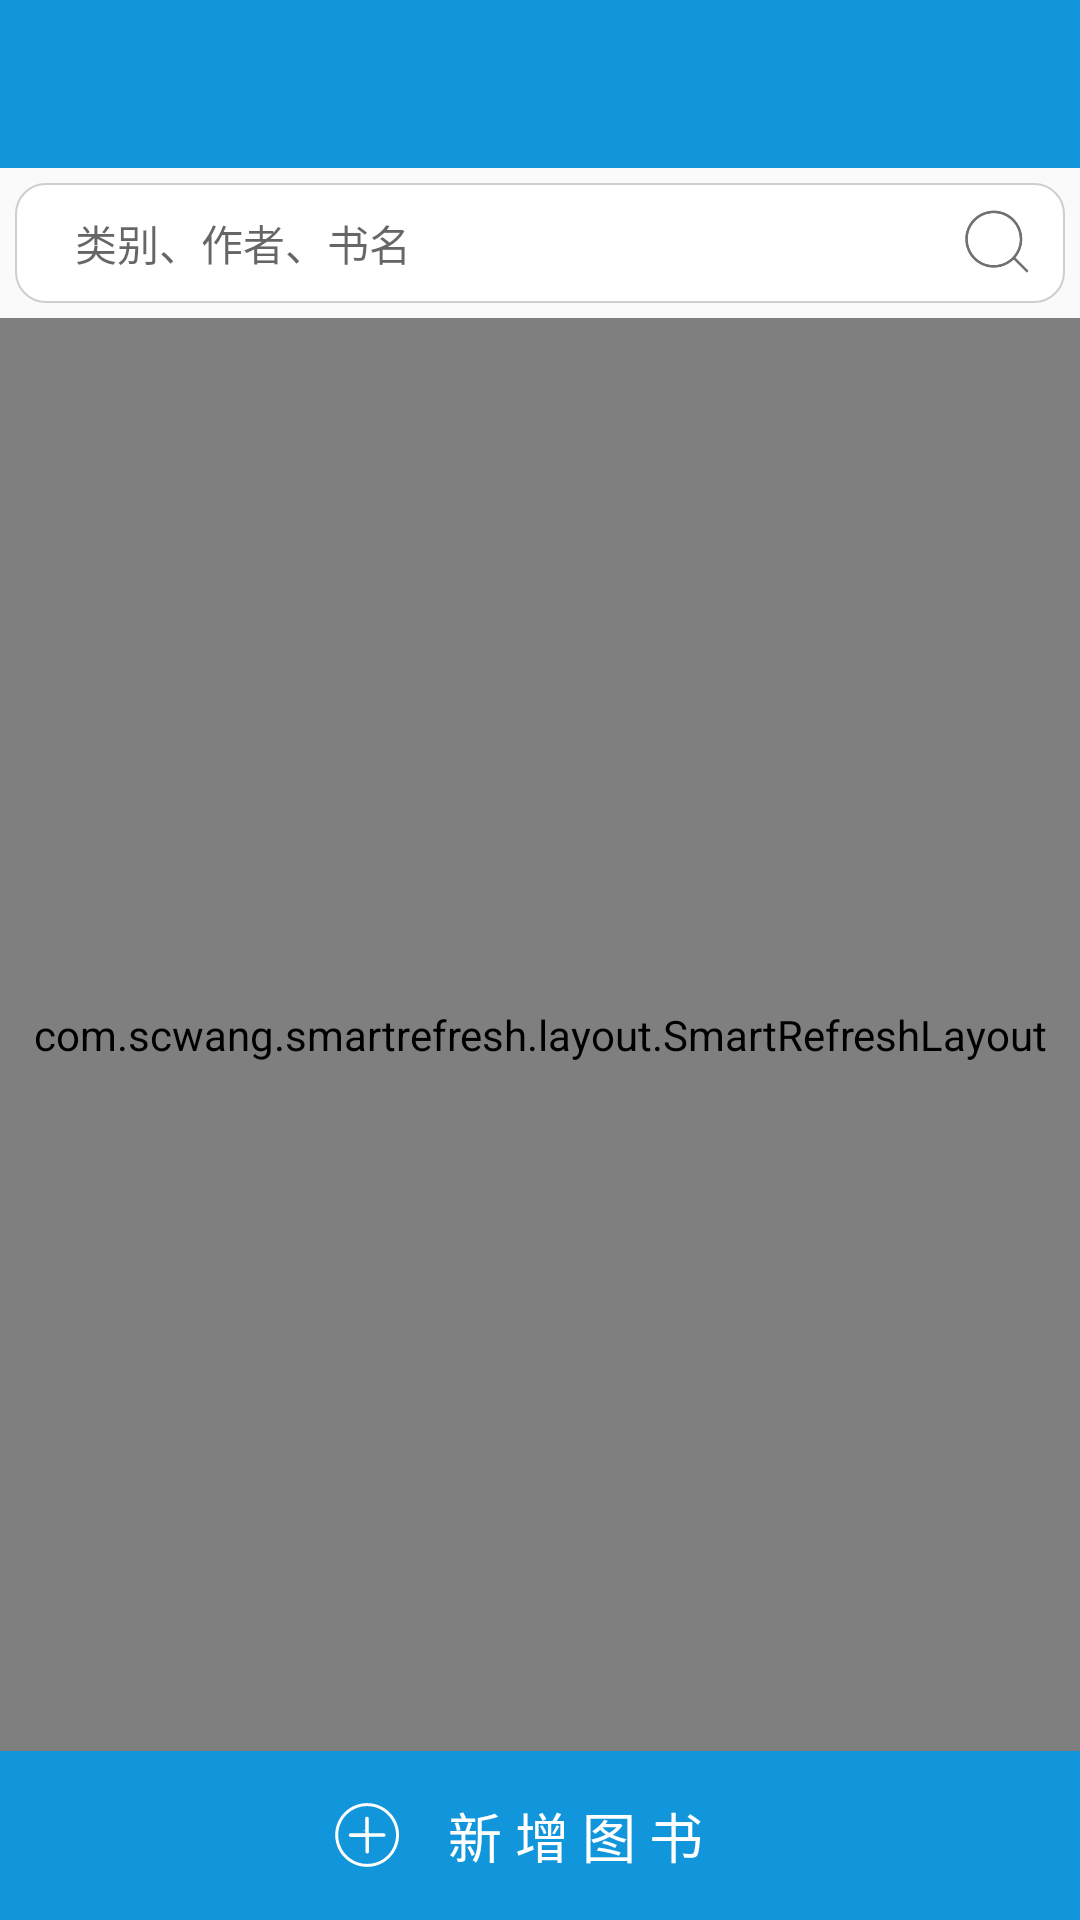

Icon click points for this 1080px x 1920px phone screenshot, format (x,y):
search: (997,241)
